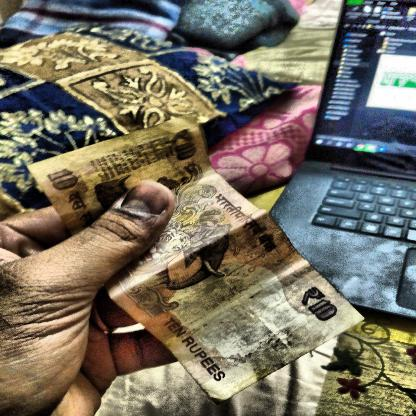Rs10: (288, 283, 345, 327), (163, 125, 203, 164), (40, 164, 84, 196)
